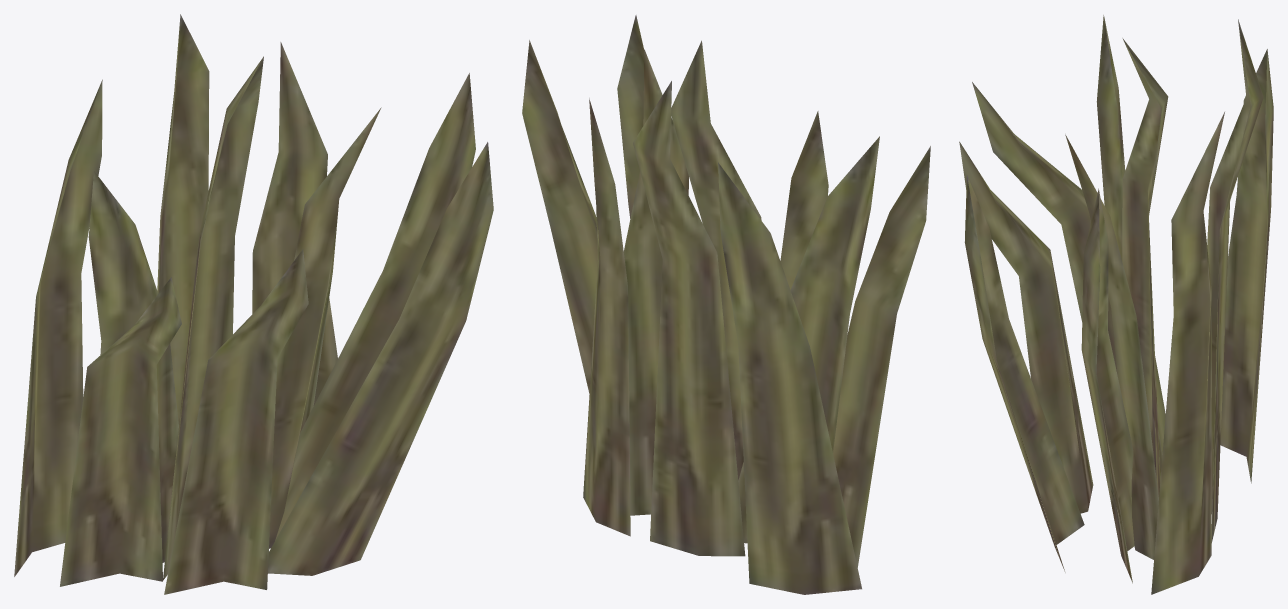
File: grass_01.glb
The picture shows the model from 3 angles, left to right: view 1: azimuth 30°, elevation 25°; view 2: azimuth 150°, elevation 25°; view 3: azimuth 270°, elevation 25°; orthographic projection. The views are drawn at different scales.
Parts seen in each view (by area): view 1: SM_Grass_01; view 2: SM_Grass_01; view 3: SM_Grass_01.
Part boxes in pixels (box(x1,y1,x2,y2)): SM_Grass_01: box(14, 14, 493, 594); SM_Grass_01: box(522, 15, 930, 594); SM_Grass_01: box(959, 15, 1273, 594).
Size of the model in its own units: 0.5538 by 0.6531 by 0.3652.
1 material, 1 textured.
